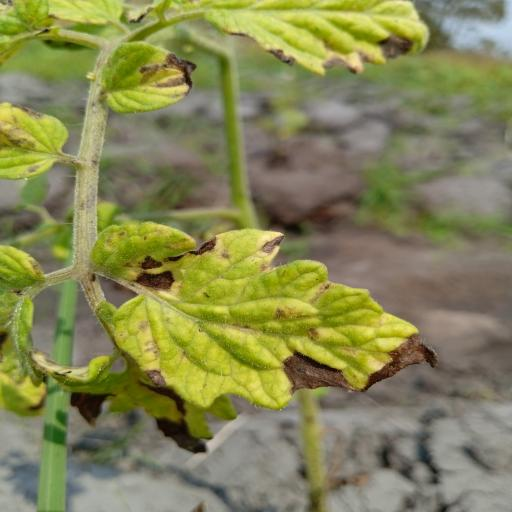Tomato_Brown_Spots: (98, 220, 444, 414)
